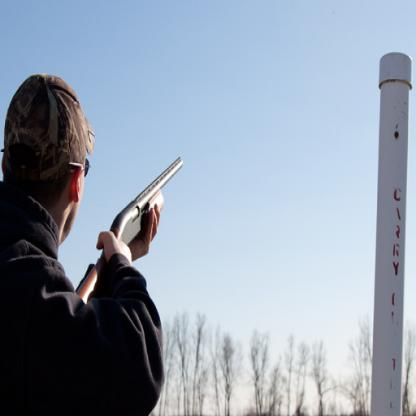gun: (74, 156, 185, 306)
